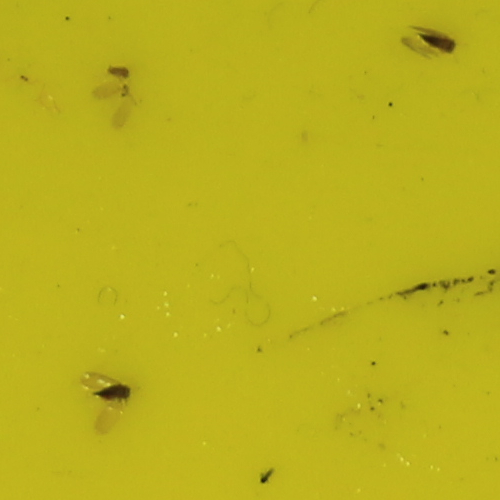psylla: (90, 379, 134, 406), (412, 28, 459, 53)
